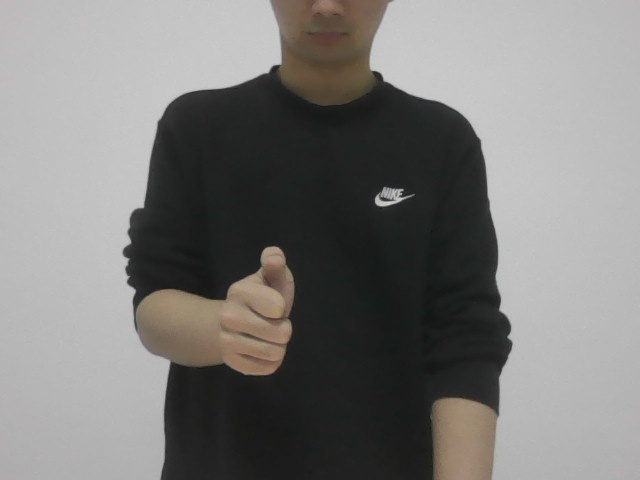thank you: (208, 242, 303, 383)
